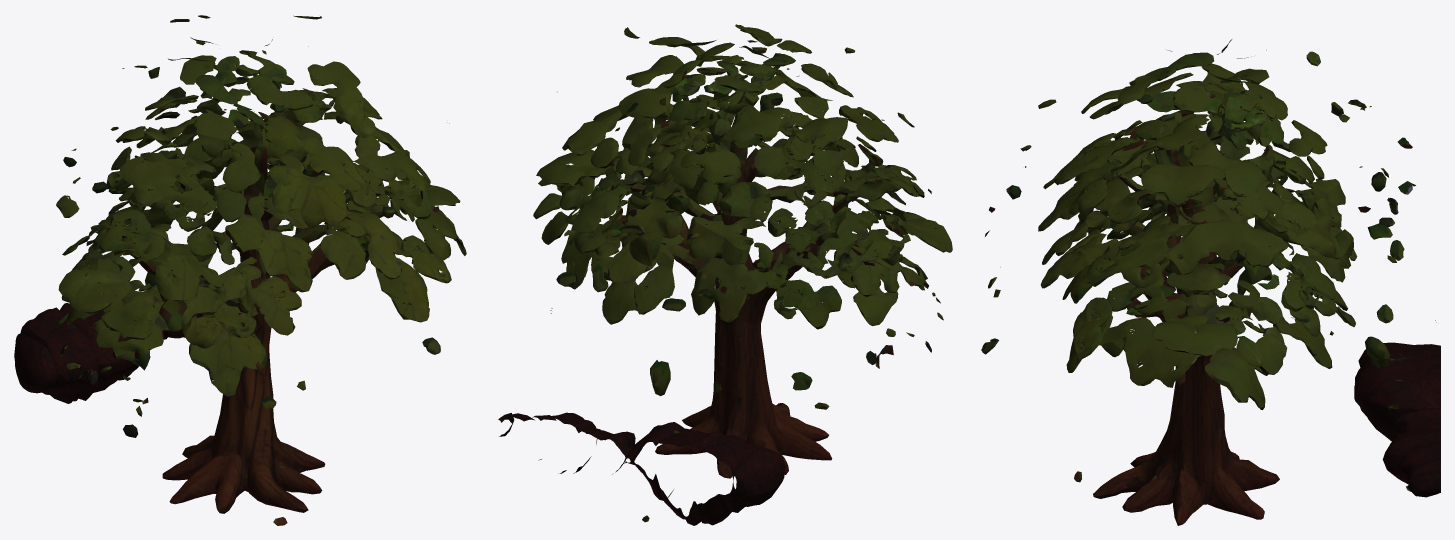
File: world-oak-a.glb
3 renders of one model, left to right at view 1: azimuth 30°, elevation 25°; view 2: azimuth 150°, elevation 25°; view 3: azimuth 270°, elevation 25°, orthographic. The views are drawn at different scales.
Visible parts, largest first — view 1: tmp9njgem_q.ply; view 2: tmp9njgem_q.ply; view 3: tmp9njgem_q.ply.
Boxes of the visible parts, left/top/right/bottom form: tmp9njgem_q.ply: left=14, top=15, right=466, bottom=525; tmp9njgem_q.ply: left=498, top=24, right=952, bottom=525; tmp9njgem_q.ply: left=981, top=39, right=1440, bottom=525.
Bounding box in the file's own units: 1.96 × 1.98 × 1.89.
1 material, 1 textured.
